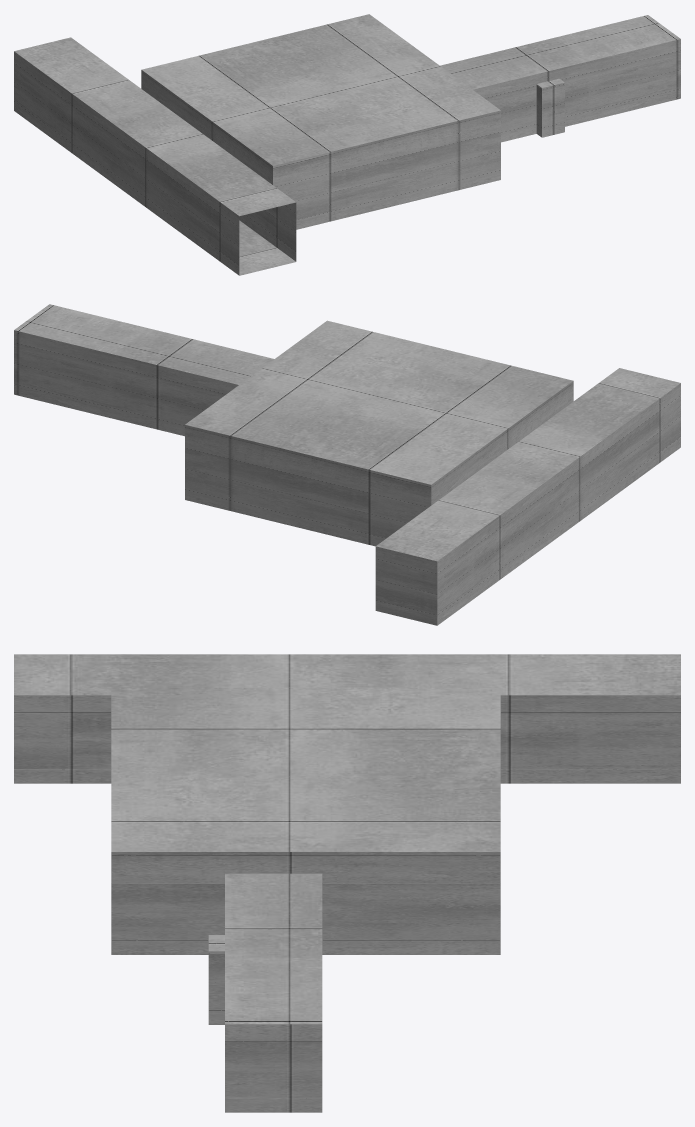
The model's file is infirmary.dae.
3 views of the same model, one above another, from view 1: azimuth 30°, elevation 25°; view 2: azimuth 150°, elevation 25°; view 3: azimuth 270°, elevation 25° (orthographic). The views are drawn at different scales.
Visible parts, largest first — view 1: rooms-col; view 2: rooms-col; view 3: rooms-col.
Part boxes in pixels (x1,y1,x2,y2): rooms-col: (14, 14, 680, 275); rooms-col: (14, 304, 680, 625); rooms-col: (14, 654, 680, 1112).
Size of the model in its own units: 27 by 20.56 by 3.5.
Materials: 1 (1 with a texture image).
